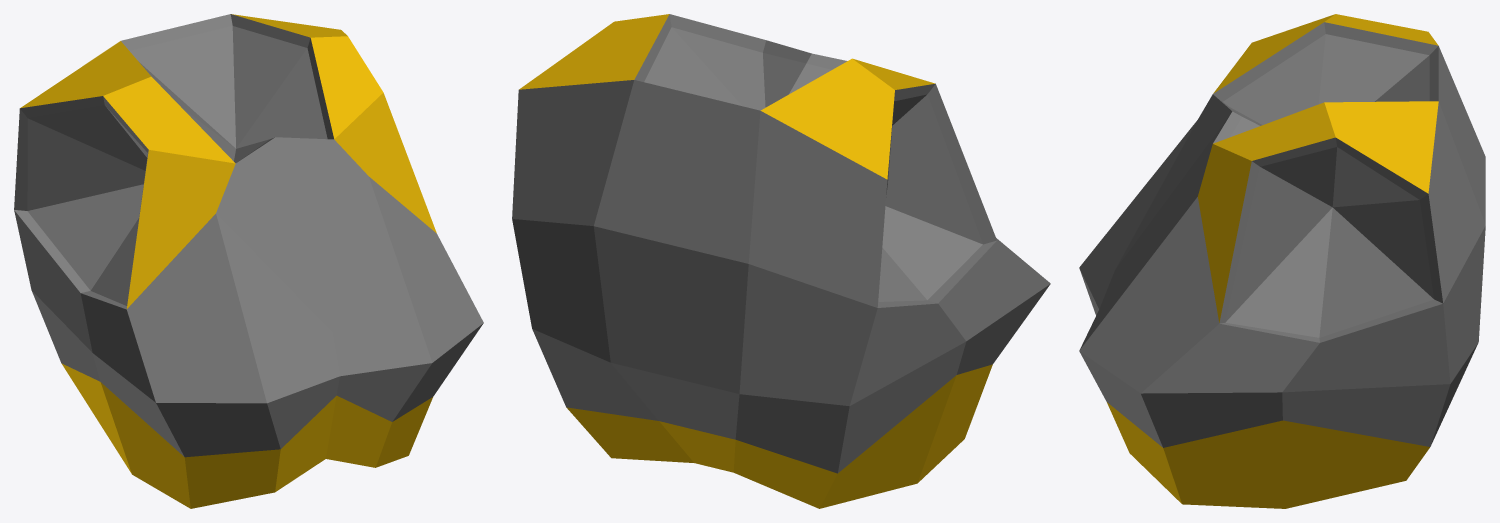
File: Satyr_Breastplate.fbx
3 views of the same model, side by side, from view 1: azimuth 30°, elevation 25°; view 2: azimuth 150°, elevation 25°; view 3: azimuth 270°, elevation 25° (orthographic). The views are drawn at different scales.
Visible parts, largest first — view 1: PlateArmor; view 2: PlateArmor; view 3: PlateArmor.
Part boxes in pixels (box(x1,y1,x2,y2)): PlateArmor: box(14, 14, 483, 508); PlateArmor: box(512, 14, 1050, 508); PlateArmor: box(1079, 14, 1485, 508).
Bounding box in the file's own units: 43.24 × 47.26 × 44.96.
